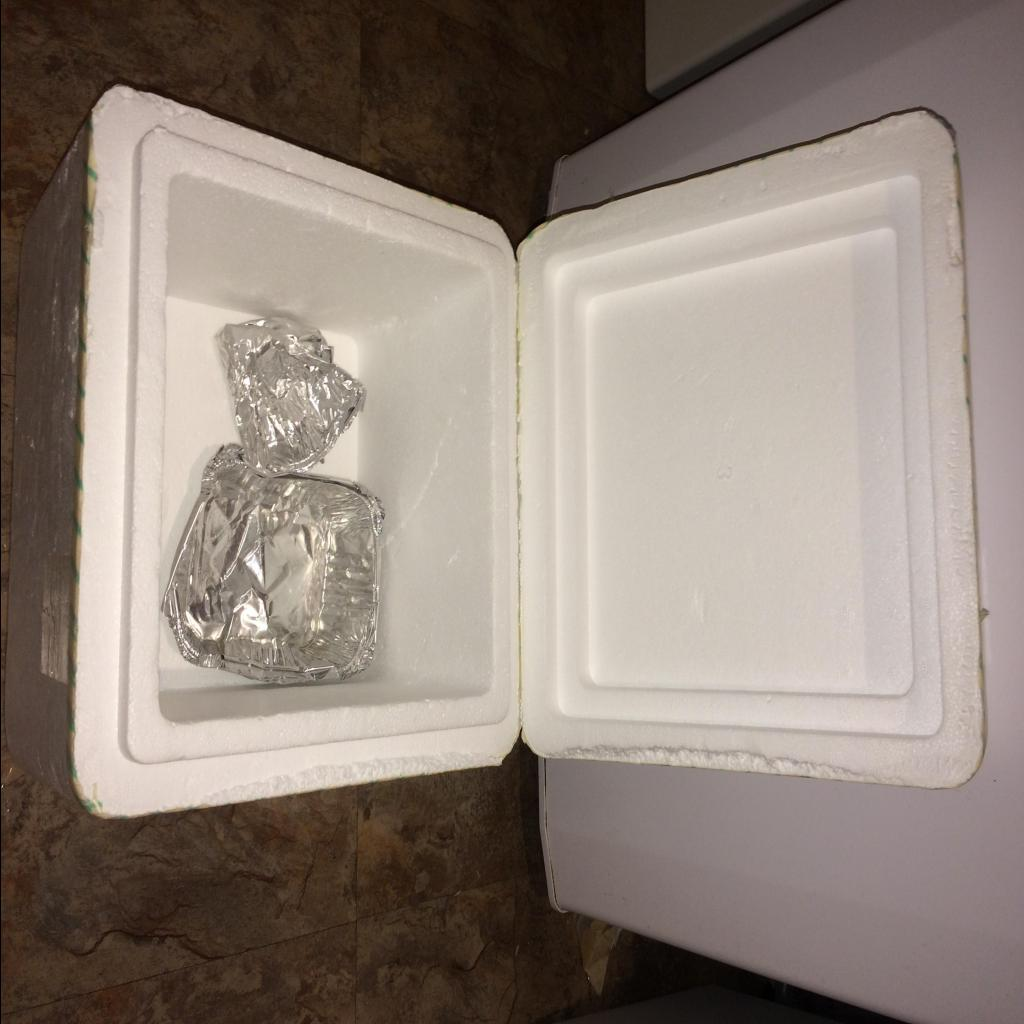Aluminium foil: (160, 432, 384, 686), (213, 316, 366, 472)
Styrofoam piece: (5, 83, 985, 819)
